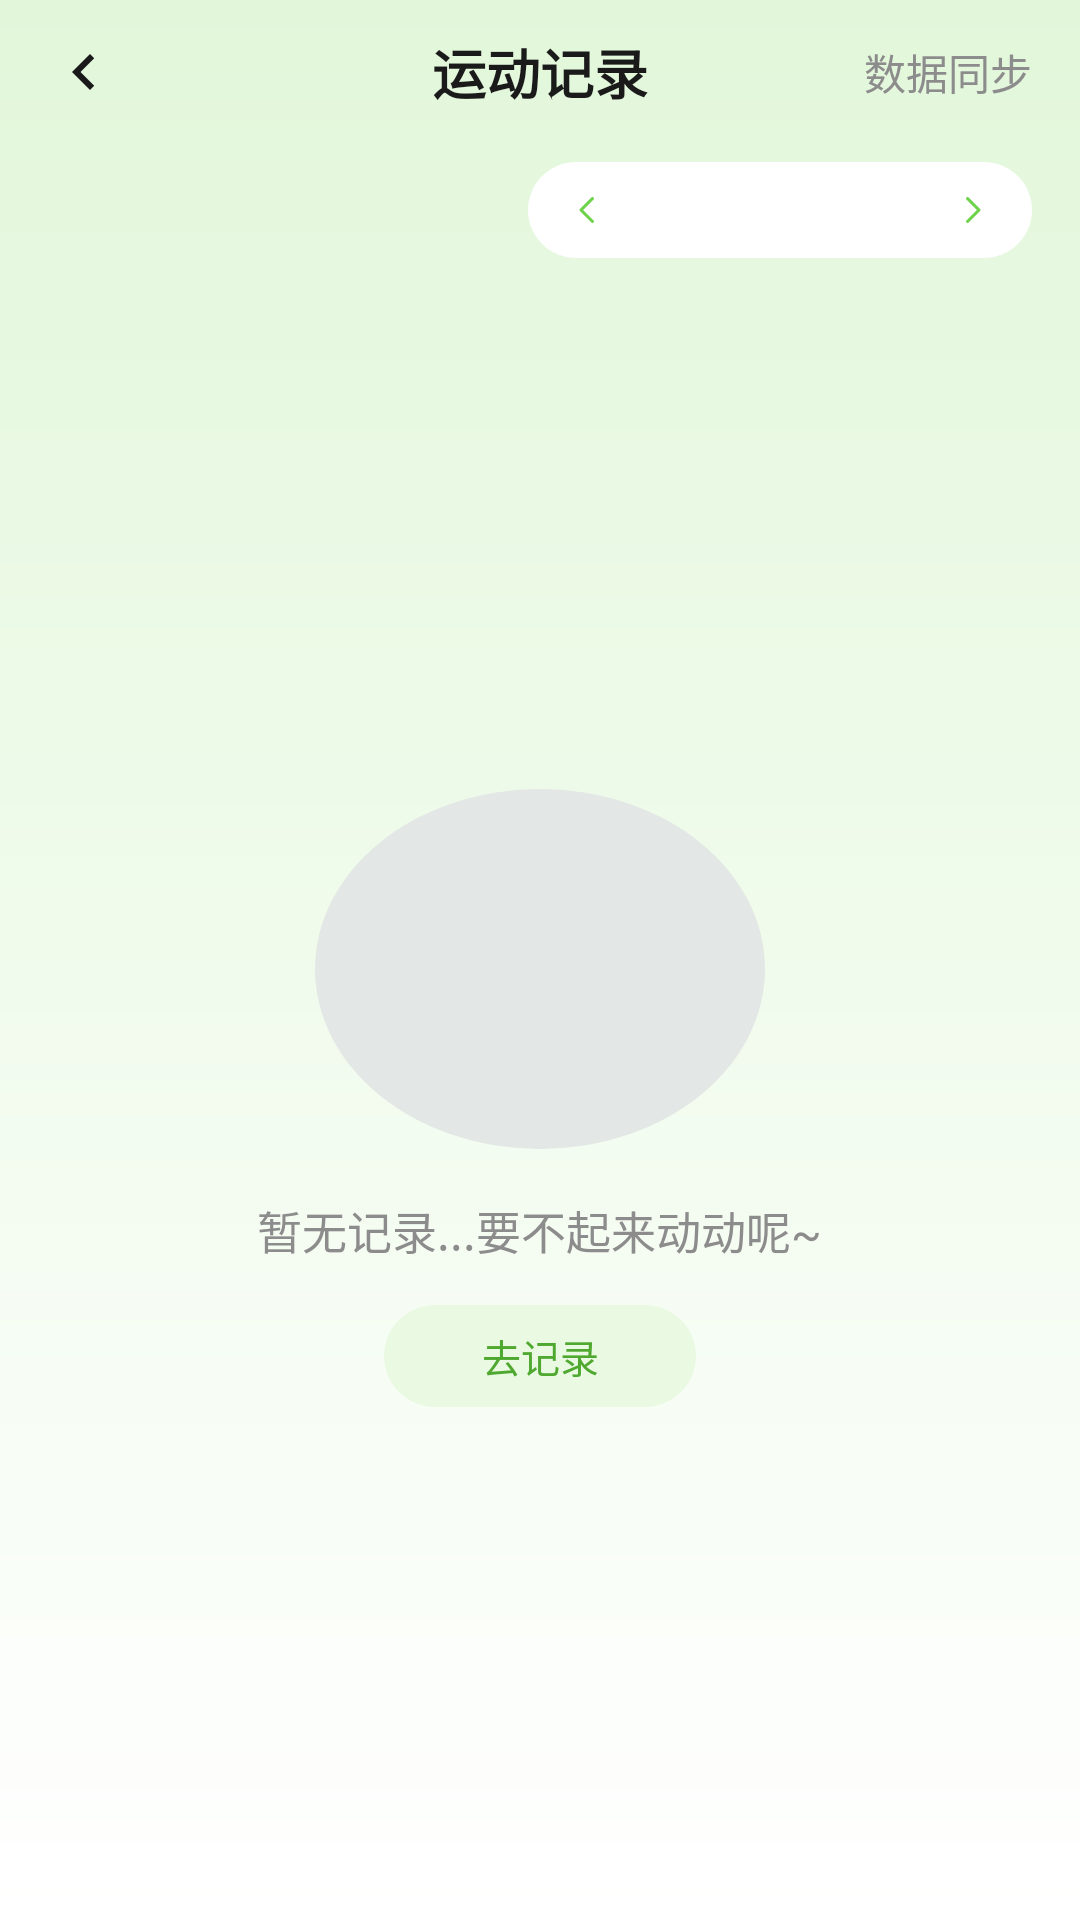

Named icons in this screenshot (1080w x 1920h) and their bounding boxes, (x1, y1, x2, y2):
下一个月: (966, 197, 981, 223)
返回: (72, 54, 94, 90)
